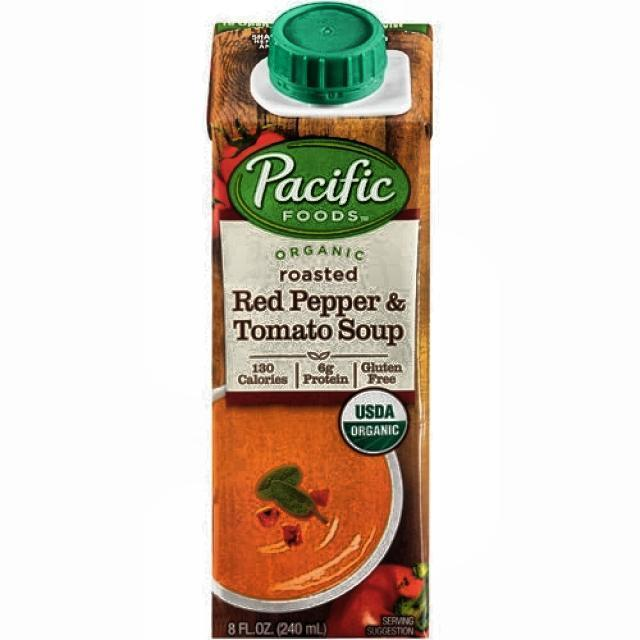cardboard: (207, 18, 433, 638)
